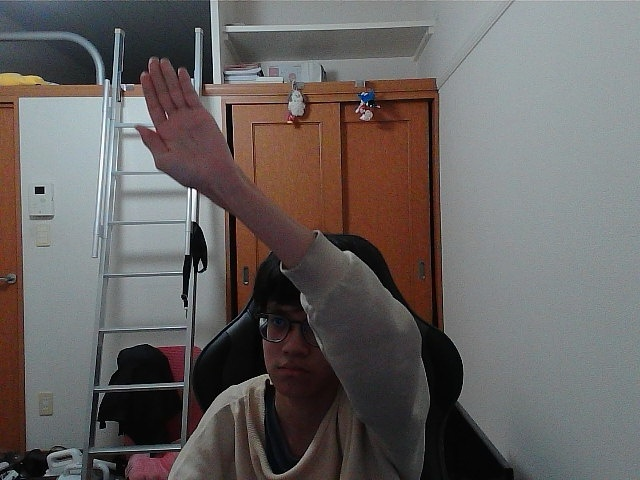open_palm: (142, 63, 213, 176)
